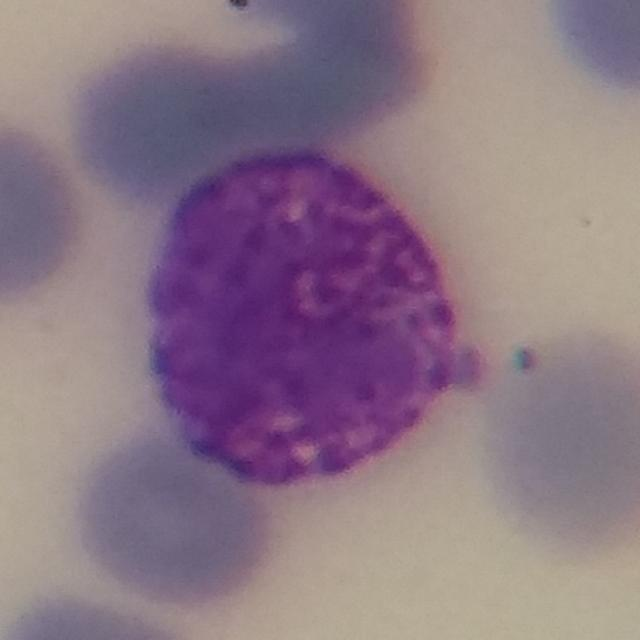Basophil: (119, 132, 490, 524)
RBC: (64, 418, 287, 614), (473, 318, 640, 551), (75, 45, 274, 196), (229, 0, 428, 141), (0, 119, 91, 310), (0, 585, 204, 640), (535, 0, 640, 106)
